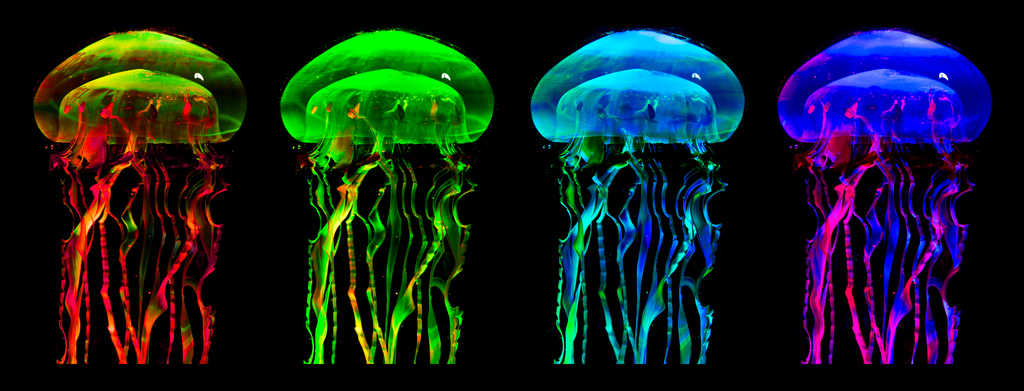Jellyfish: (779, 26, 993, 378), (33, 25, 245, 363), (280, 26, 491, 363), (536, 26, 744, 367)
